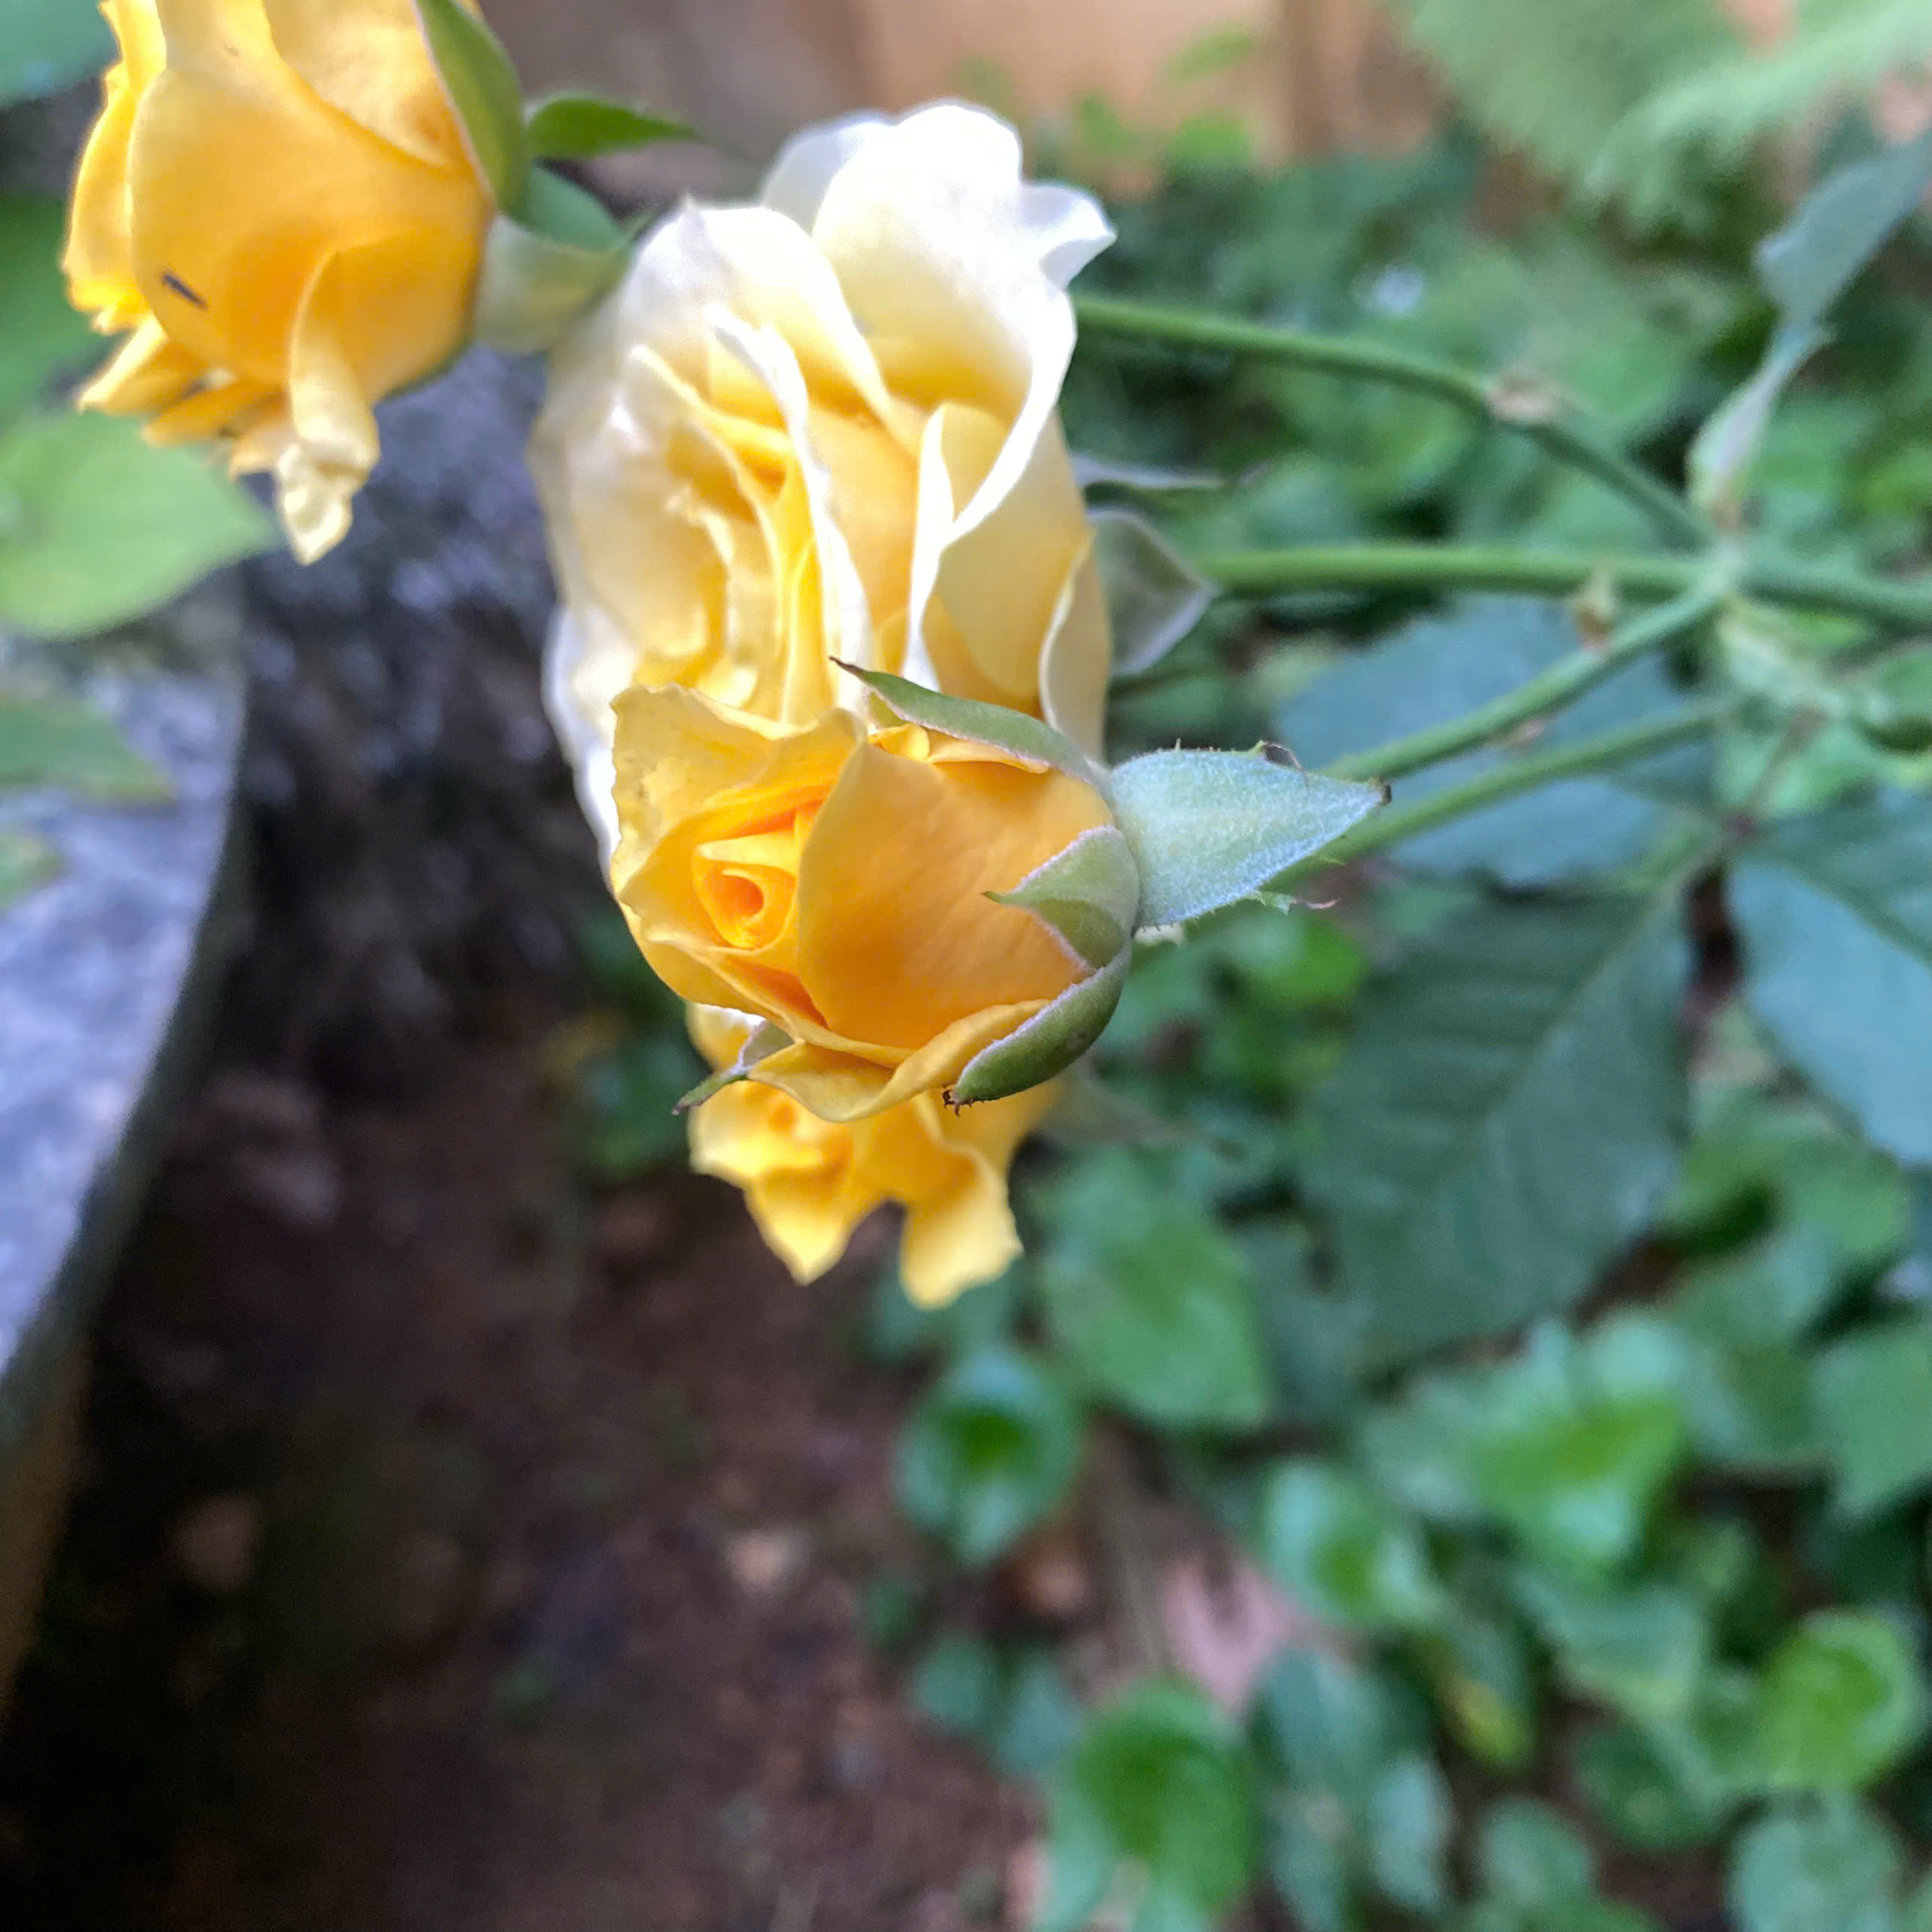hoa_thuoc_duoc: (12, 0, 1569, 1474)
